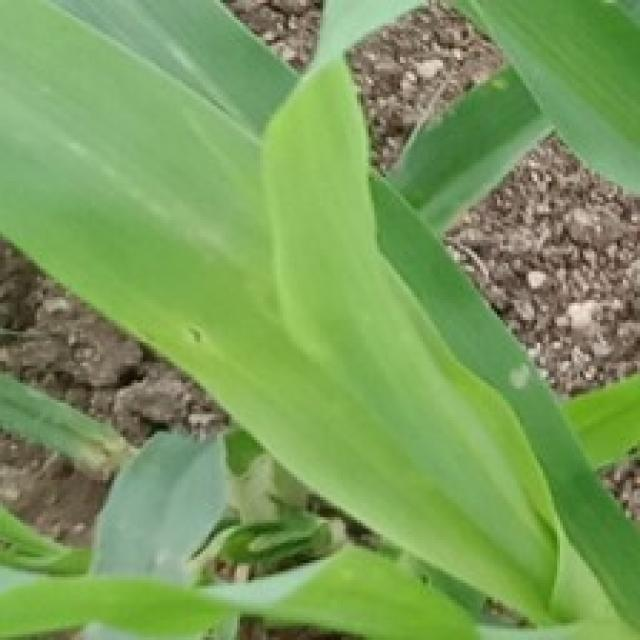Corn: (0, 0, 637, 637), (308, 0, 637, 211)
